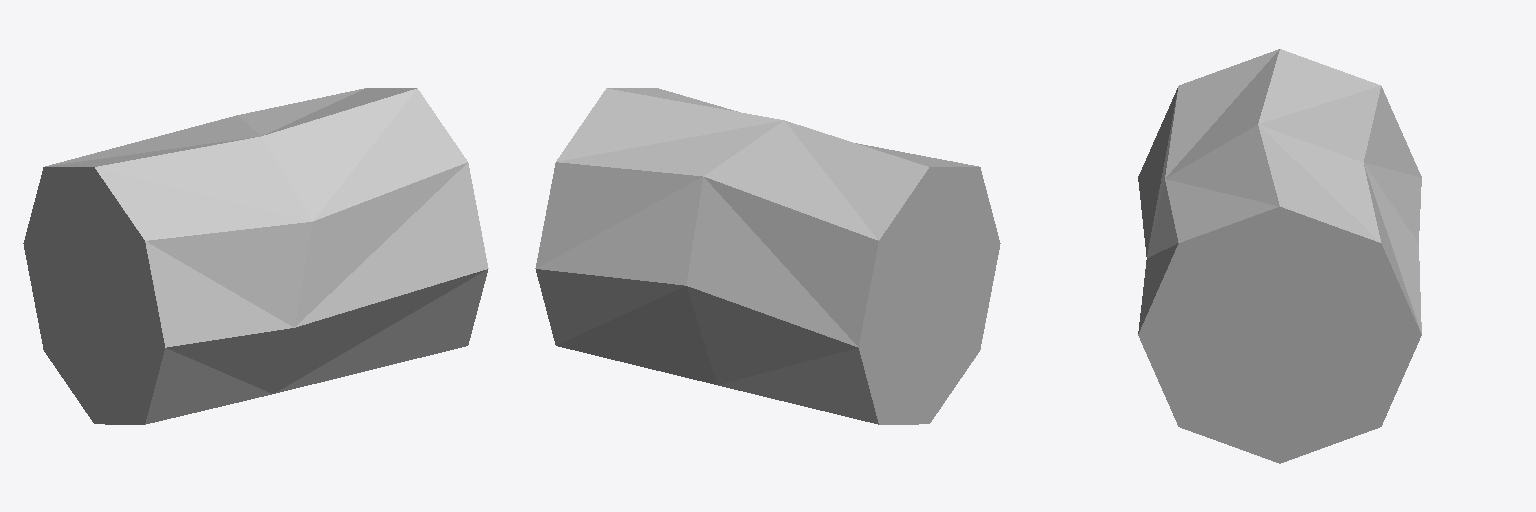
Rendered from straight.obj.
3 views of the same model, side by side, from view 1: azimuth 30°, elevation 25°; view 2: azimuth 150°, elevation 25°; view 3: azimuth 270°, elevation 25° (orthographic).
Parts seen in each view (by area): view 1: Straight_Cube.001; view 2: Straight_Cube.001; view 3: Straight_Cube.001.
Part boxes in pixels (x1,y1,x2,y2): Straight_Cube.001: (23,88,488,424); Straight_Cube.001: (535,88,1000,424); Straight_Cube.001: (1138,49,1421,463).
Bounding box in the file's own units: 2 × 1.53 × 1.52.